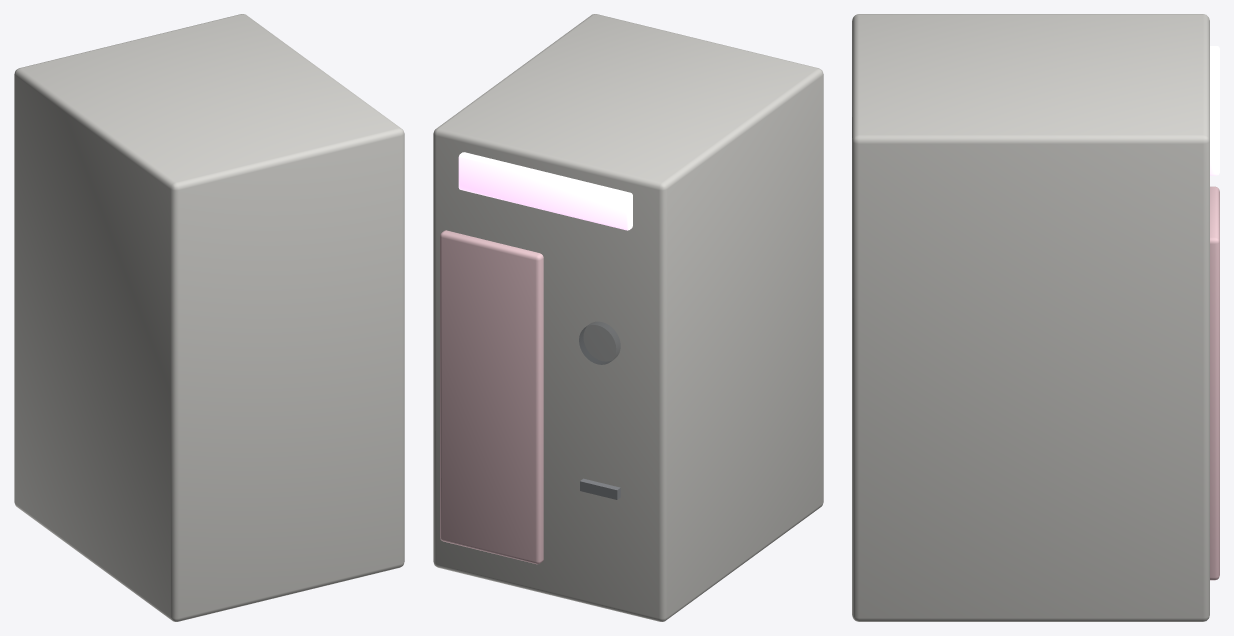
The model's file is photobooth-kiosk.glb.
3 renders of one model, left to right at view 1: azimuth 30°, elevation 25°; view 2: azimuth 150°, elevation 25°; view 3: azimuth 270°, elevation 25°, orthographic. The views are drawn at different scales.
Visible parts, largest first — view 1: booth_MainCabin; view 2: booth_MainCabin, booth_VelvetCurtain, booth_NeonSign, booth_CameraLens, booth_PrintDispenserSlot; view 3: booth_MainCabin, booth_VelvetCurtain, booth_NeonSign.
Boxes of the visible parts, left/top/right/bottom form: booth_MainCabin: left=14, top=14, right=404, bottom=621; booth_MainCabin: left=433, top=14, right=823, bottom=621; booth_VelvetCurtain: left=440, top=230, right=543, bottom=564; booth_NeonSign: left=458, top=152, right=632, bottom=230; booth_CameraLens: left=579, top=322, right=620, bottom=364; booth_PrintDispenserSlot: left=580, top=478, right=620, bottom=499; booth_MainCabin: left=852, top=14, right=1209, bottom=621; booth_VelvetCurtain: left=1210, top=186, right=1219, bottom=580; booth_NeonSign: left=1210, top=46, right=1219, bottom=175.
Size of the model in its own units: 1.5 by 2.7 by 1.85.
